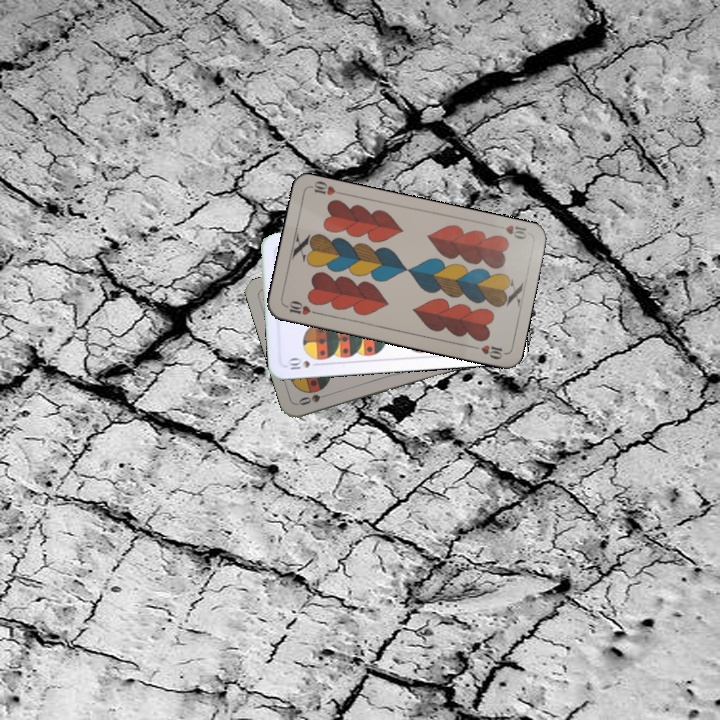H10: (282, 297, 322, 318), (492, 221, 529, 242)
S10: (283, 355, 323, 372)
SO: (294, 388, 334, 408)
